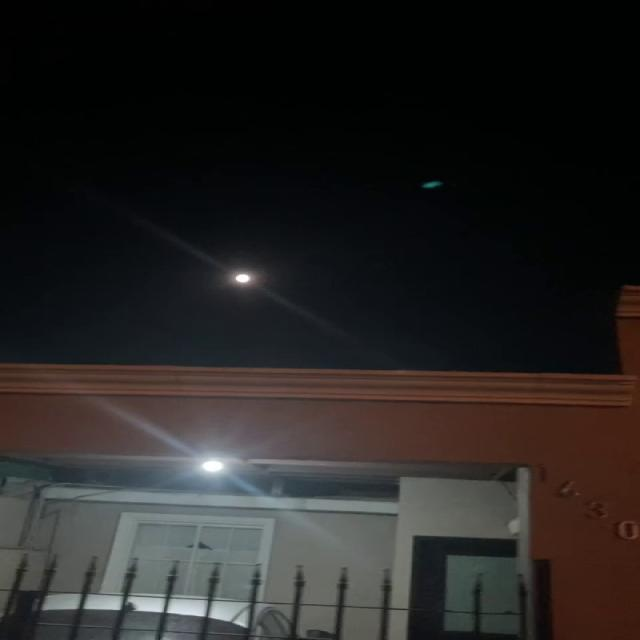moon: (228, 269, 267, 286)
